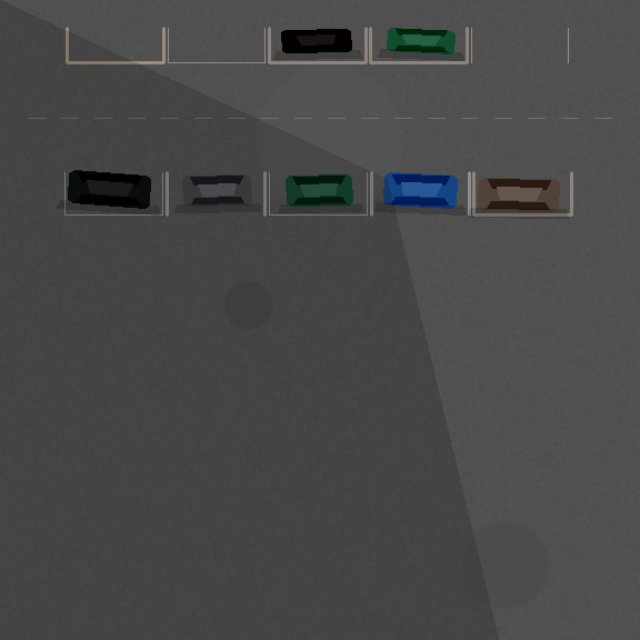space-empty: (471, 28, 568, 62), (67, 28, 163, 62), (168, 28, 264, 62)
space-occupied: (64, 172, 162, 214), (269, 172, 367, 214), (371, 172, 469, 214), (473, 172, 571, 214), (167, 172, 264, 214), (269, 28, 366, 62), (370, 28, 467, 62)
